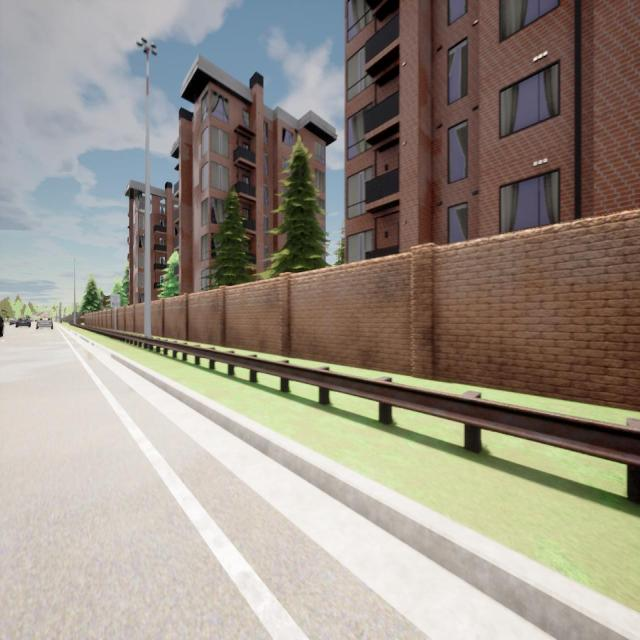Traffic_Signs: (110, 294, 120, 308)
Vehicle: (36, 316, 53, 329), (16, 315, 32, 328), (0, 314, 5, 337), (10, 319, 16, 326)
